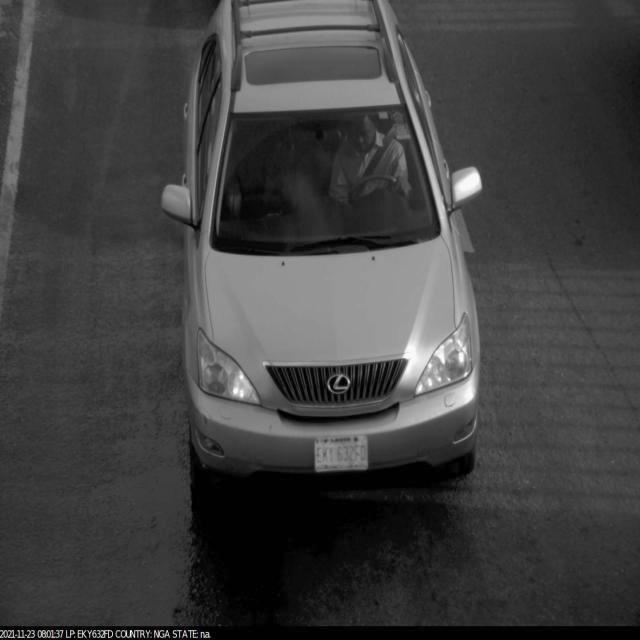person_with_seatbelt: (326, 108, 419, 238)
